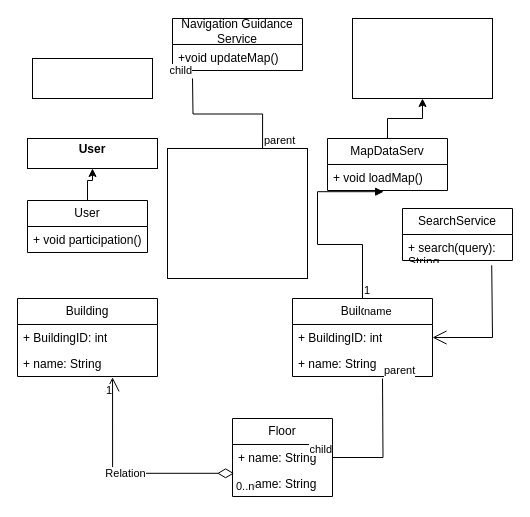
Image size: 530x517. Some labels were removed from this diagram. The centre of each missing label's shape, as x and y in pixels:
Admin: point 92,78
MapDataService + void calculatePath() + void provideGuidance(): point 422,58
Navigation + GuidanceService: int + int calculatePath() +void provideGuidance(): point 237,213
